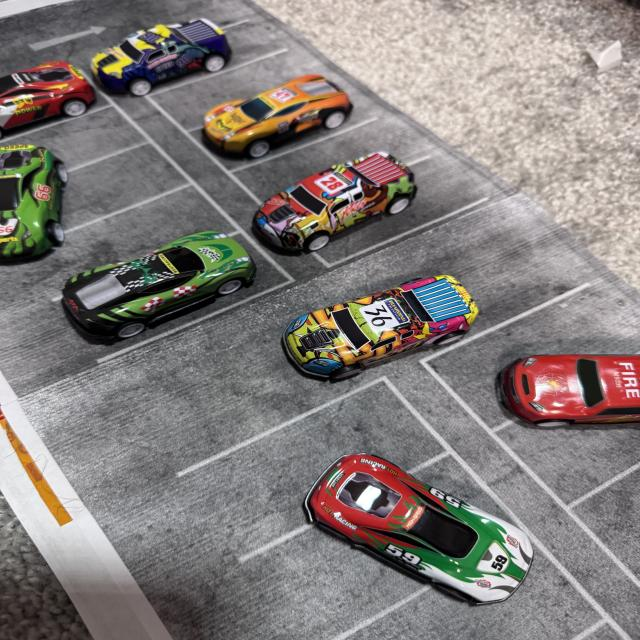Car: (311, 410, 555, 640), (292, 215, 476, 406), (76, 195, 264, 367), (501, 319, 640, 501), (274, 140, 463, 270), (211, 61, 375, 173), (0, 51, 152, 154), (0, 140, 90, 262), (102, 10, 244, 79)
